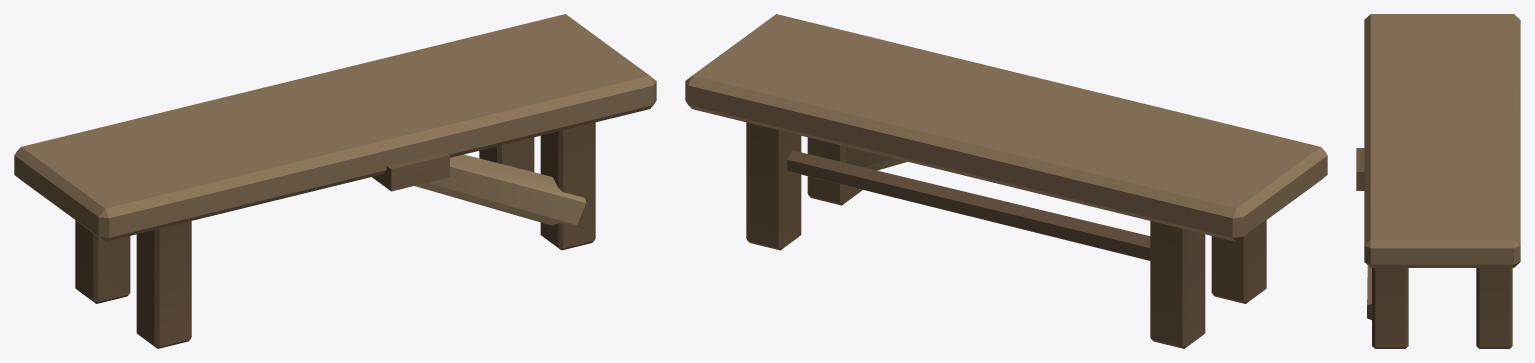
Rendered from bench_braced.glb.
3 views of the same model, side by side, from view 1: azimuth 30°, elevation 25°; view 2: azimuth 150°, elevation 25°; view 3: azimuth 270°, elevation 25° (orthographic). The views are drawn at different scales.
Parts seen in each view (by area): view 1: bench_braced.018; view 2: bench_braced.018; view 3: bench_braced.018.
Boxes of the visible parts, x1,y1,x2,y2 form: bench_braced.018: (14, 14, 656, 348); bench_braced.018: (685, 14, 1327, 348); bench_braced.018: (1356, 14, 1520, 348).
Size of the model in its own units: 2.1 by 0.56 by 0.63.
